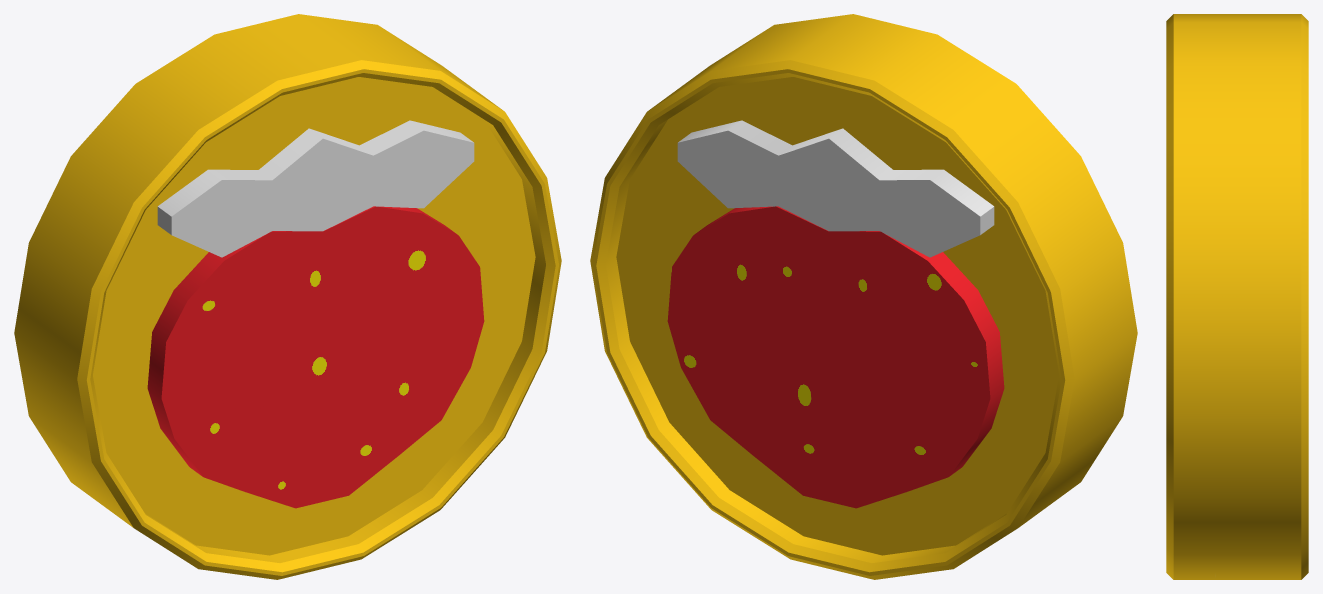
Rendered from CoinStrawberry.FBX.
The picture shows the model from 3 angles, left to right: view 1: azimuth 30°, elevation 25°; view 2: azimuth 150°, elevation 25°; view 3: azimuth 270°, elevation 25°; orthographic projection.
Visible parts, largest first — view 1: Coin, Strawberry, StrawberryLeaves; view 2: Coin, Strawberry, StrawberryLeaves; view 3: Coin.
Boxes of the visible parts, x1,y1,x2,y2 form: Coin: (14, 14, 561, 579); Strawberry: (147, 206, 484, 508); StrawberryLeaves: (157, 120, 474, 257); Coin: (590, 14, 1137, 579); Strawberry: (667, 206, 1004, 508); StrawberryLeaves: (677, 120, 994, 257); Coin: (1166, 14, 1308, 579).
Bounding box in the file's own units: 31.5 × 31.02 × 7.87.
Materials: 2 (2 with a texture image).
